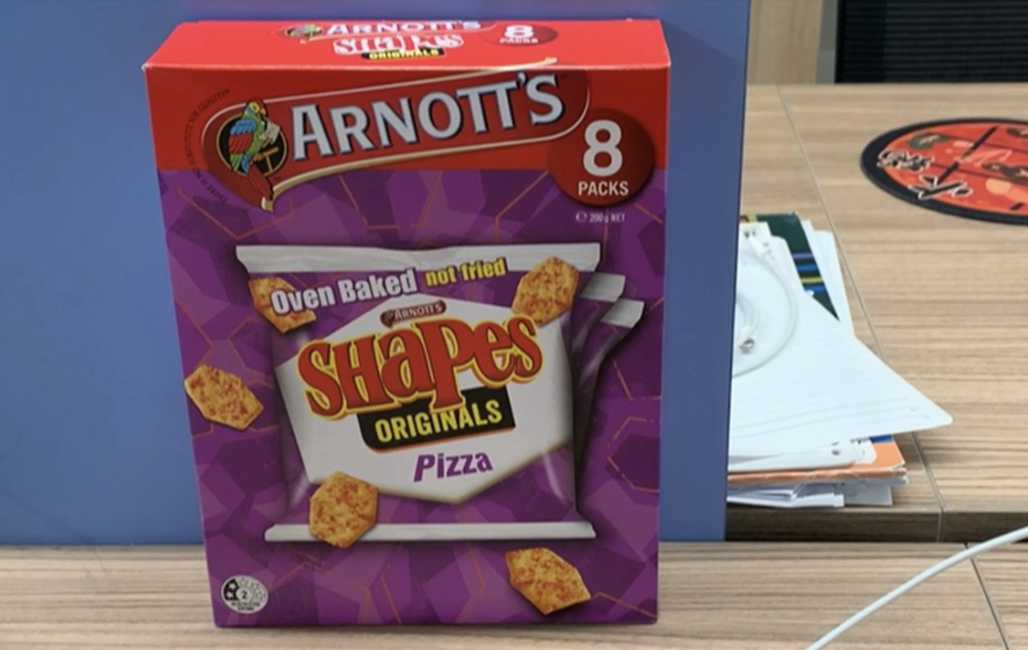crackers_200g-299g: (209, 80, 651, 618)
